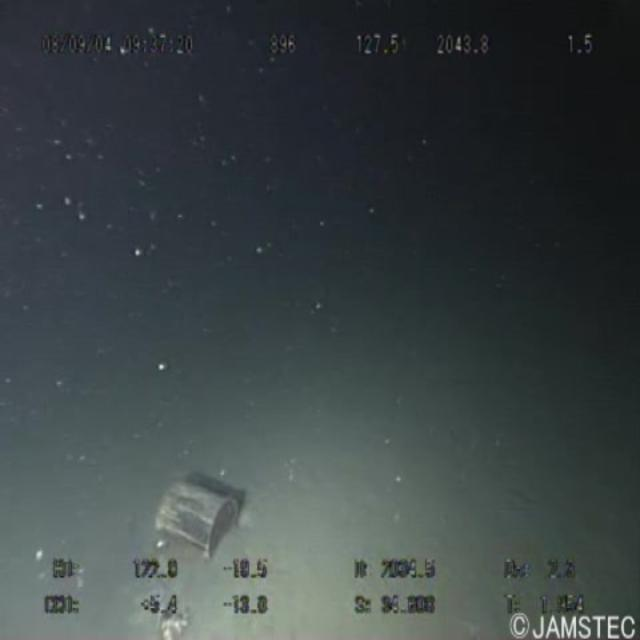Metal: (141, 447, 245, 579)
